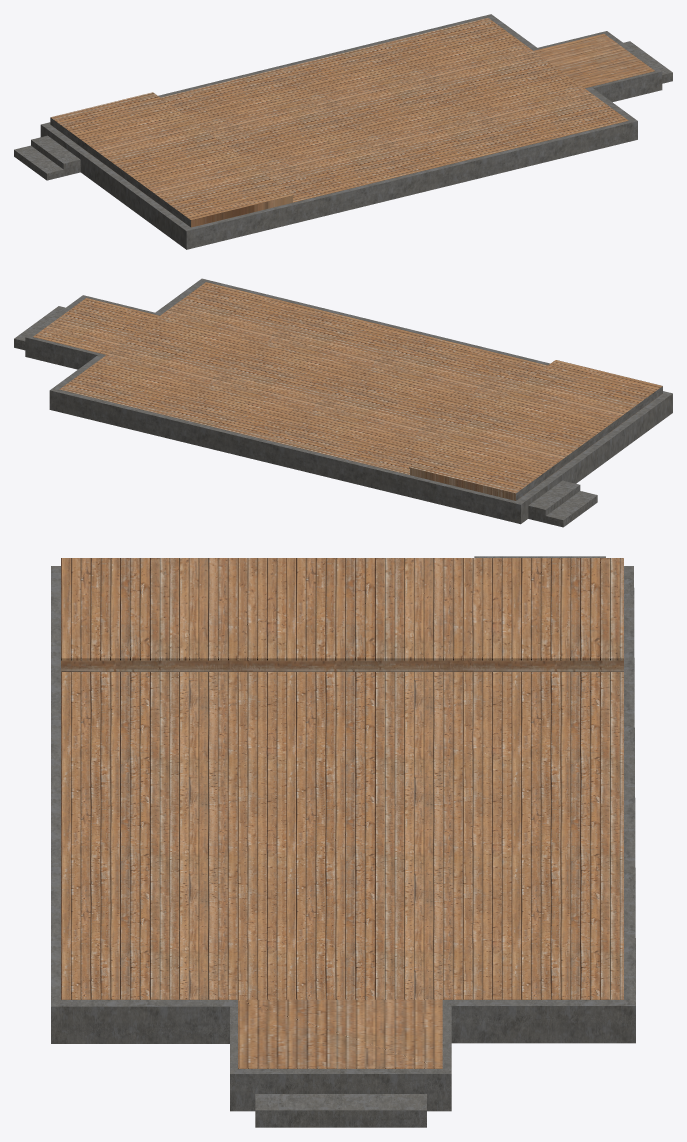
Rendered from Floor.FBX.
3 renders of one model, top to bottom at view 1: azimuth 30°, elevation 25°; view 2: azimuth 150°, elevation 25°; view 3: azimuth 270°, elevation 25°, orthographic. The views are drawn at different scales.
Visible parts, largest first — view 1: floor; view 2: floor; view 3: floor.
Part boxes in pixels (x1,y1,x2,y2): floor: (14, 14, 672, 249); floor: (14, 278, 672, 527); floor: (51, 556, 635, 1127).
Size of the model in its own units: 1706 by 74.11 by 757.
Materials: 2 (2 with a texture image).
